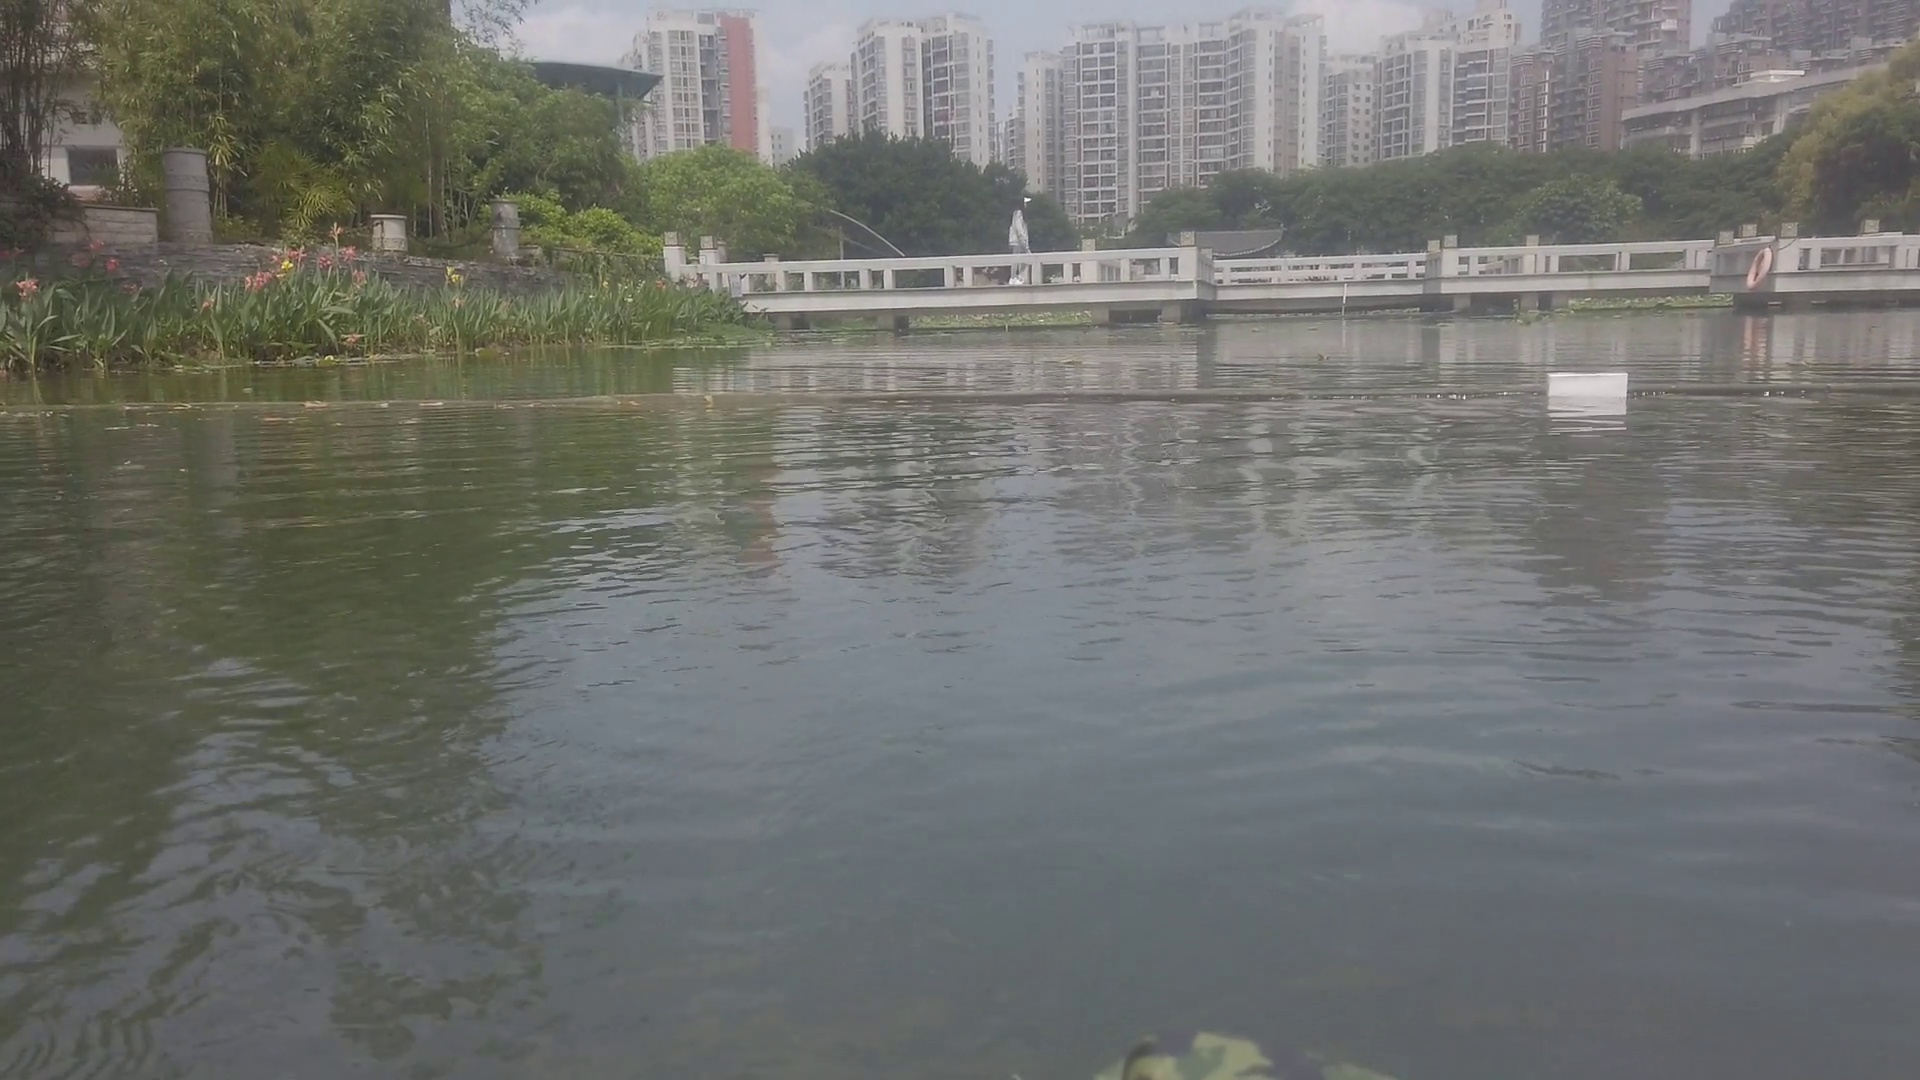carton: (1542, 369, 1629, 397)
